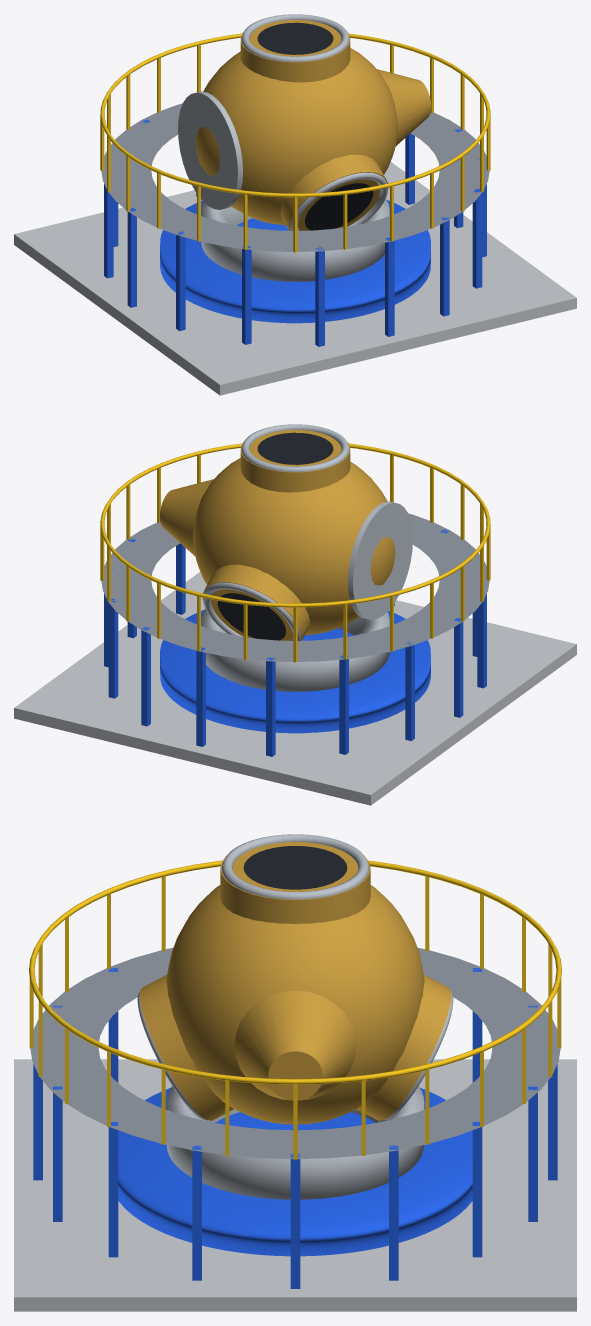
3 views of the same model, one above another, from view 1: azimuth 30°, elevation 25°; view 2: azimuth 150°, elevation 25°; view 3: azimuth 270°, elevation 25° (orthographic). The views are drawn at different scales.
Bounding box in the file's own units: 7 × 4.52 × 7.
